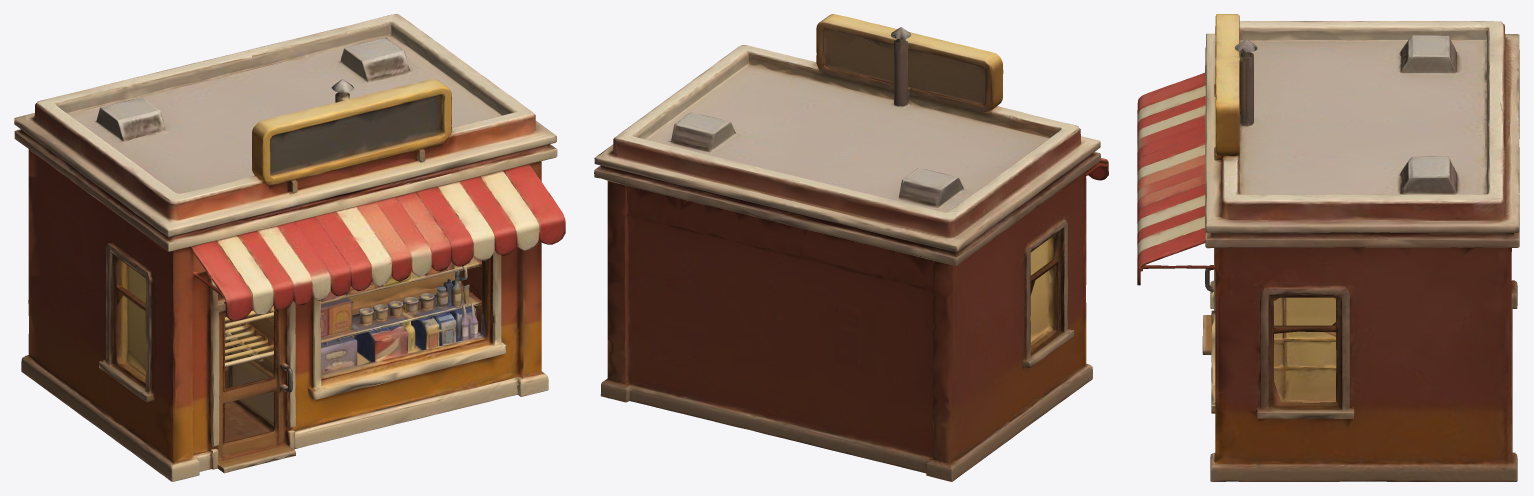
The model's file is loja.glb.
3 renders of one model, left to right at view 1: azimuth 30°, elevation 25°; view 2: azimuth 150°, elevation 25°; view 3: azimuth 270°, elevation 25°, orthographic. The views are drawn at different scales.
Visible parts, largest first — view 1: loja; view 2: loja; view 3: loja.
Boxes of the visible parts, <box> form: loja: <box>14,14,565,481</box>; loja: <box>594,14,1108,481</box>; loja: <box>1137,14,1519,481</box>.
Bounding box in the file's own units: 9 × 7.6 × 7.53.
Materials: 1 (1 with a texture image).
